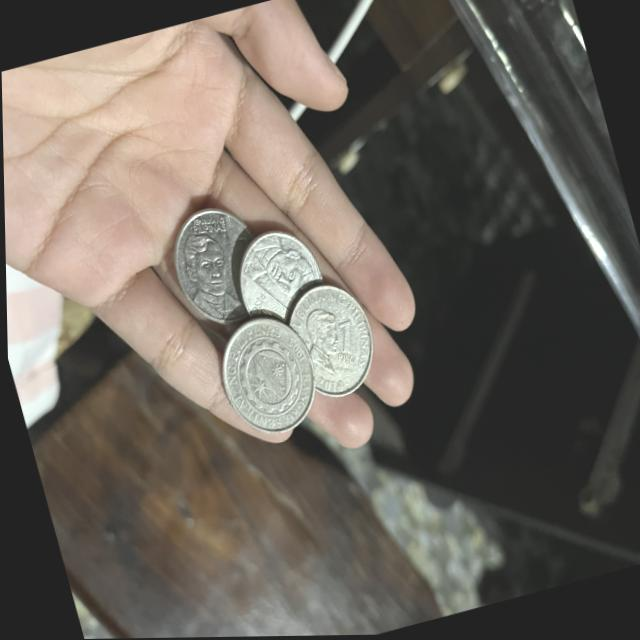1_New_Front: (175, 213, 260, 315), (232, 236, 319, 320)
1_Old_Back: (222, 326, 309, 421)
1_Old_Front: (292, 298, 366, 382)
